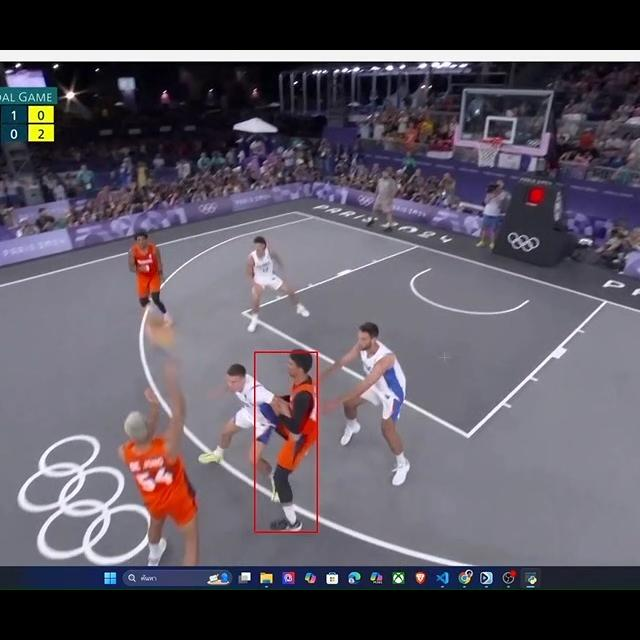basketball: (140, 319, 181, 353)
hoop: (474, 132, 502, 168)
